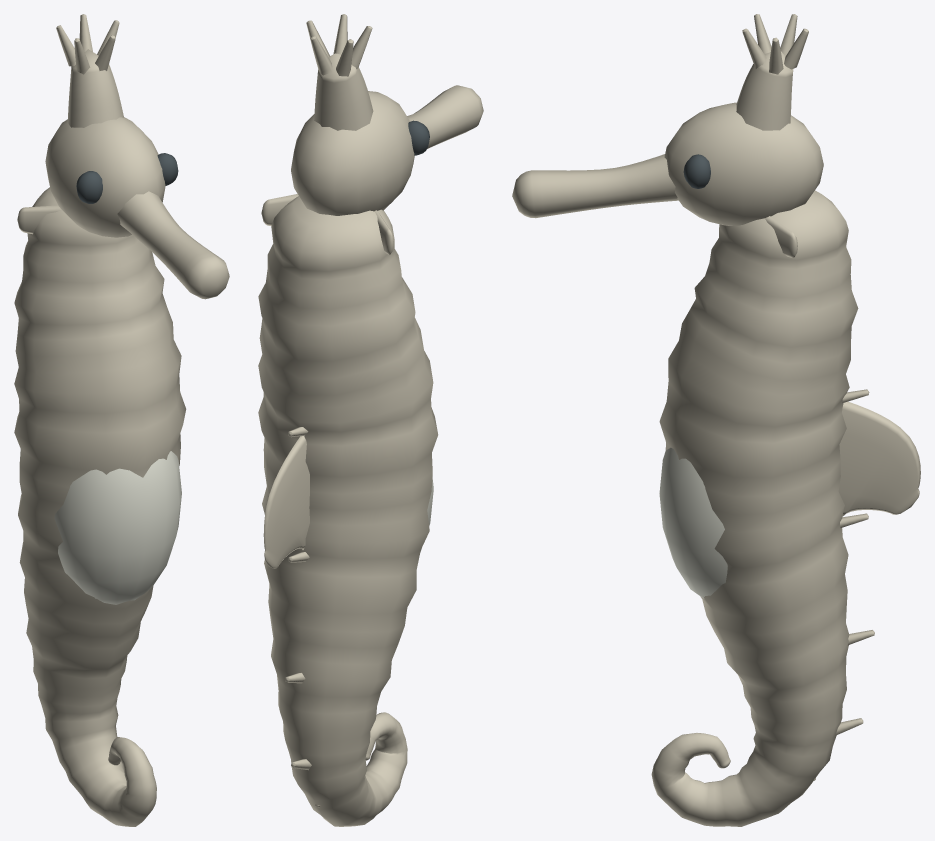
The model's file is seahorse.glb.
3 renders of one model, left to right at view 1: azimuth 30°, elevation 25°; view 2: azimuth 150°, elevation 25°; view 3: azimuth 270°, elevation 25°, orthographic. The views are drawn at different scales.
Visible parts, largest first — view 1: big-belly-seahorse; view 2: big-belly-seahorse; view 3: big-belly-seahorse.
Part boxes in pixels (box(x1,y1,x2,y2)): big-belly-seahorse: box(14, 14, 229, 826); big-belly-seahorse: box(258, 14, 483, 826); big-belly-seahorse: box(512, 14, 920, 826).
Bounding box in the file's own units: 0.0513 × 0.25 × 0.1157.
